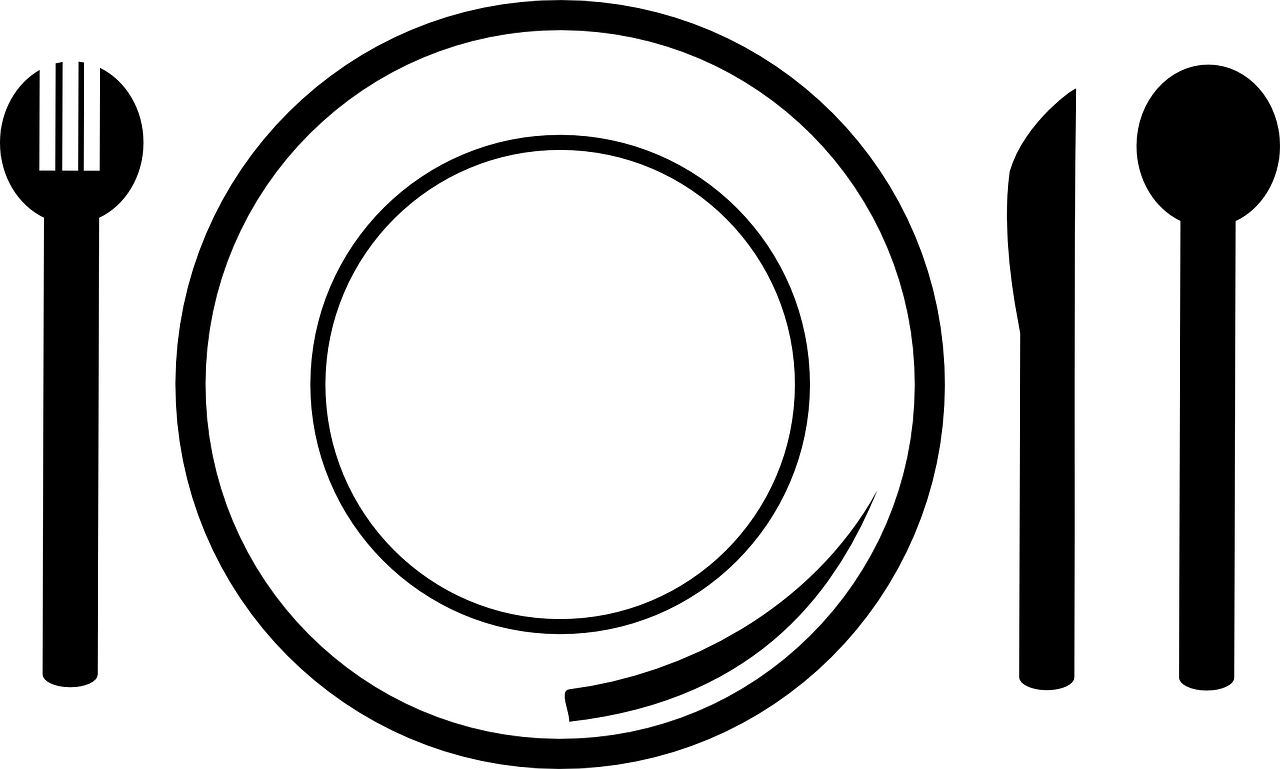knife: (1003, 81, 1090, 698)
